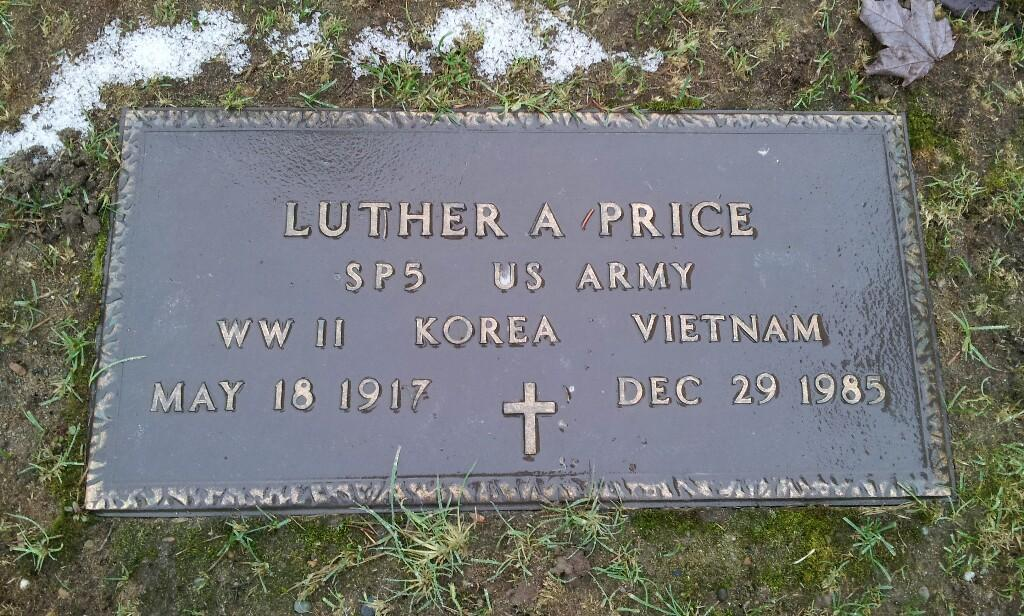military: (80, 105, 959, 508)
